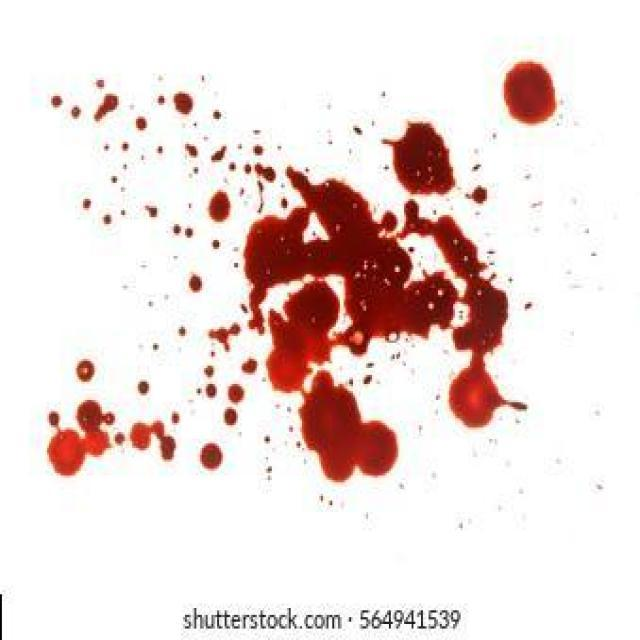flood: (205, 105, 528, 485)
